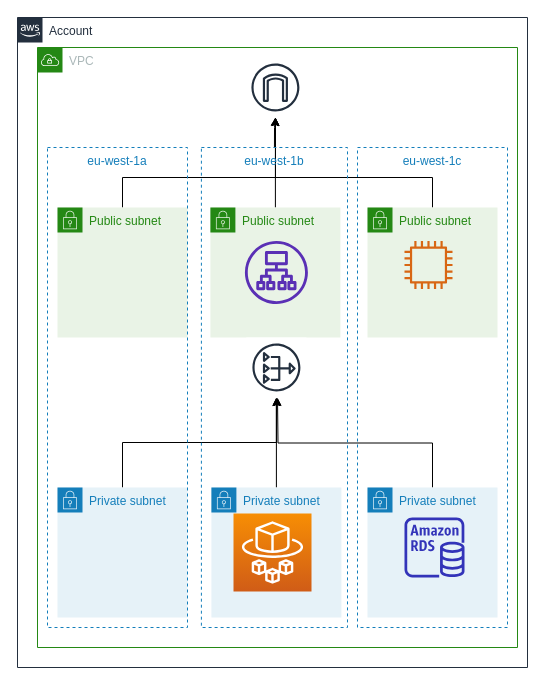
Image size: 545x685. Some labels were removed from this diagram. Each missing label, with the centre of its shape:
"Application Load Balancer" goes at point 275,272.
"Bastion Instance" goes at point 428,264.
"Databases" goes at point 434,547.
"ECS with Fargate" goes at point 272,552.
"Internet gateway" goes at point 274,87.
"NAT gateway" goes at point 275,367.
